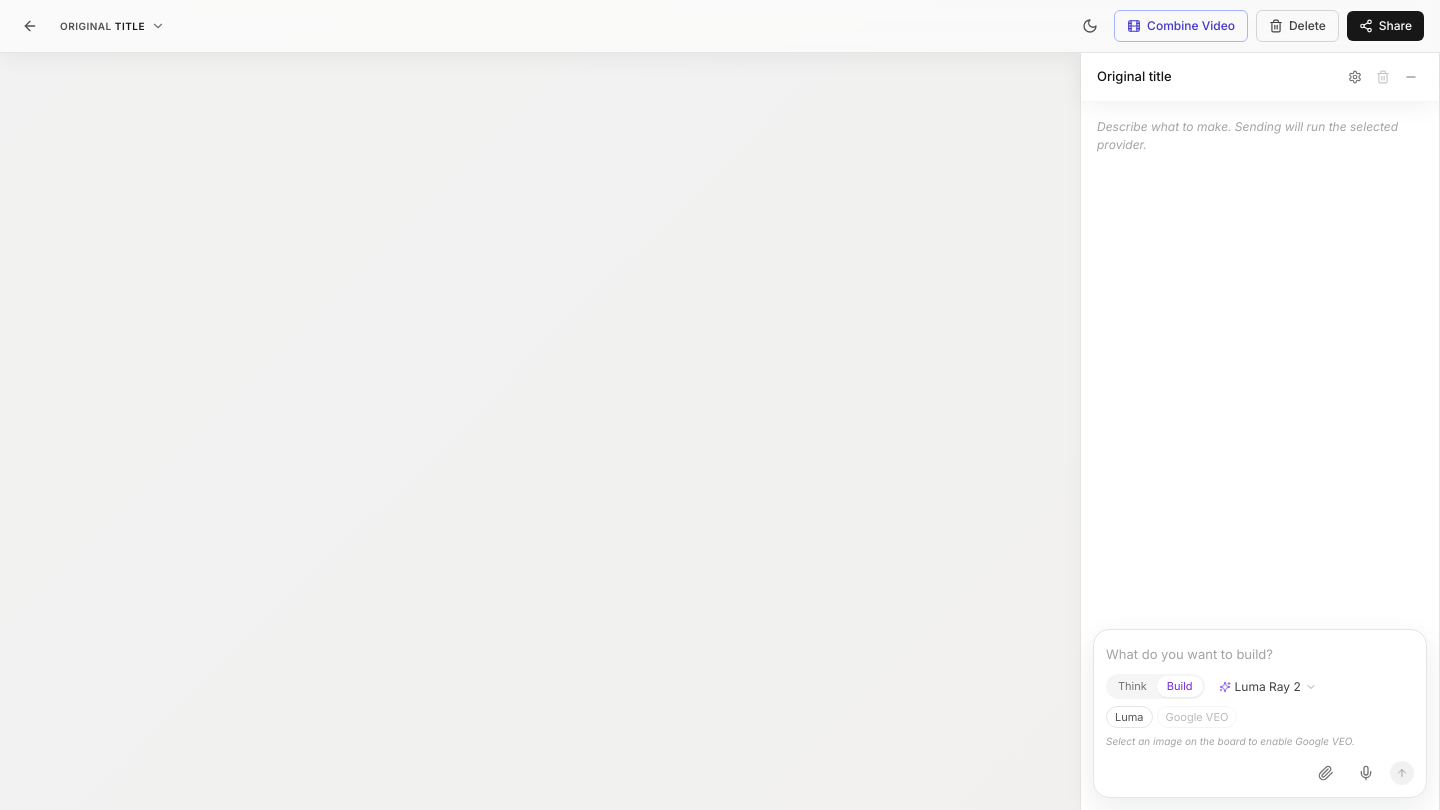
Test: BoardDetailPage inline rename › clicks owner title to enter edit mode prefilled with current title
Step 1. Click the button with test id "button-title" → (112, 26), box 52,14 -> 173,38
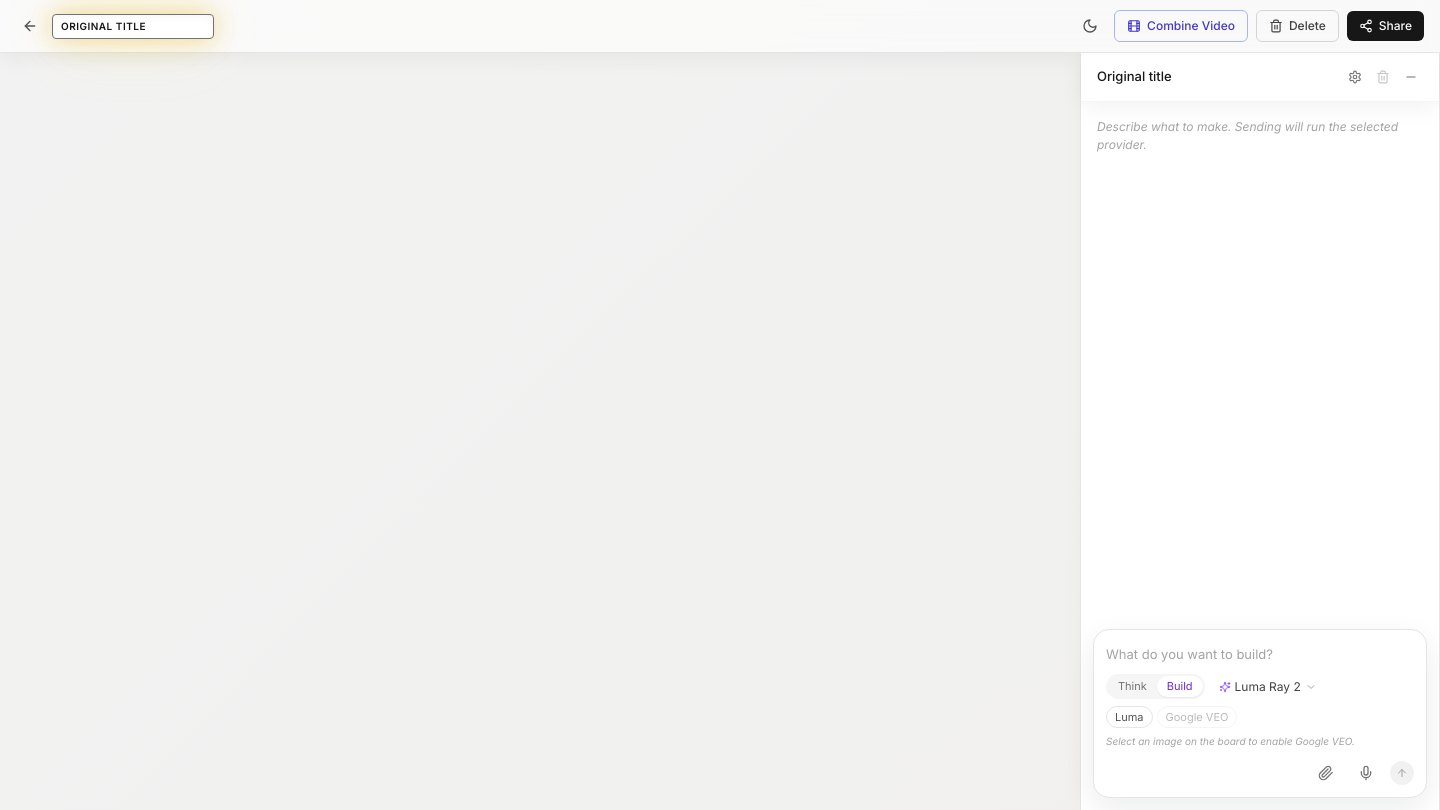
Result: the field with test id "input-board-title" holds "Original title" at 52,14 -> 214,38
